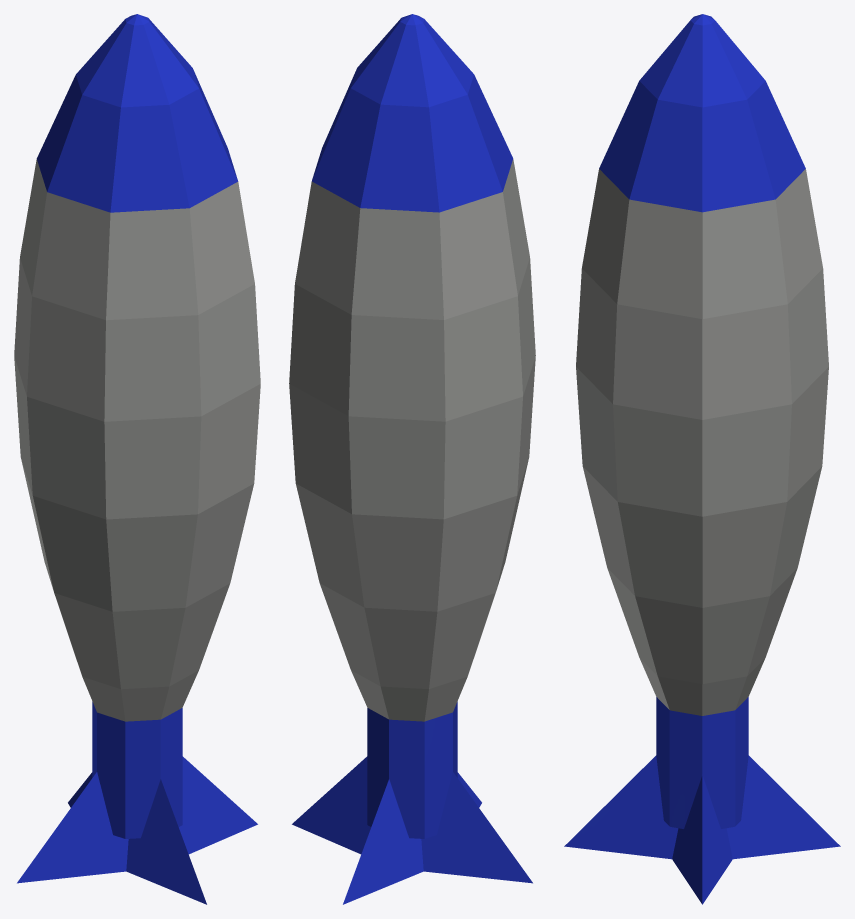
The model's file is Mortar_Projectile_Water.fbx.
The picture shows the model from 3 angles, left to right: view 1: azimuth 30°, elevation 25°; view 2: azimuth 150°, elevation 25°; view 3: azimuth 270°, elevation 25°; orthographic projection.
Parts seen in each view (by area): view 1: Circle; view 2: Circle; view 3: Circle.
Boxes of the visible parts, box(x1,y1,x2,y2) form: Circle: box(14, 14, 260, 904); Circle: box(289, 14, 535, 904); Circle: box(564, 14, 840, 904).
Size of the model in its own units: 210 by 696 by 210.
Materials: 1 (1 with a texture image).
